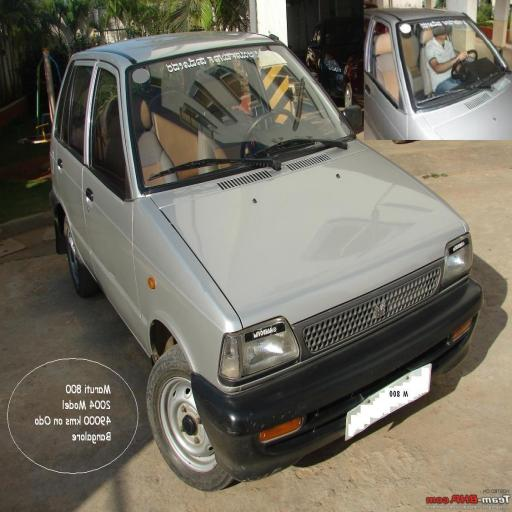License: (334, 360, 434, 444)
